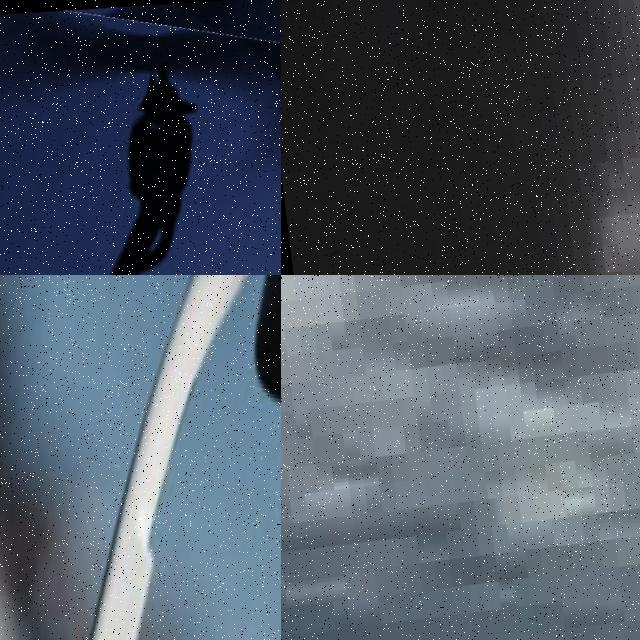drone: (0, 275, 281, 640), (0, 0, 281, 275)
